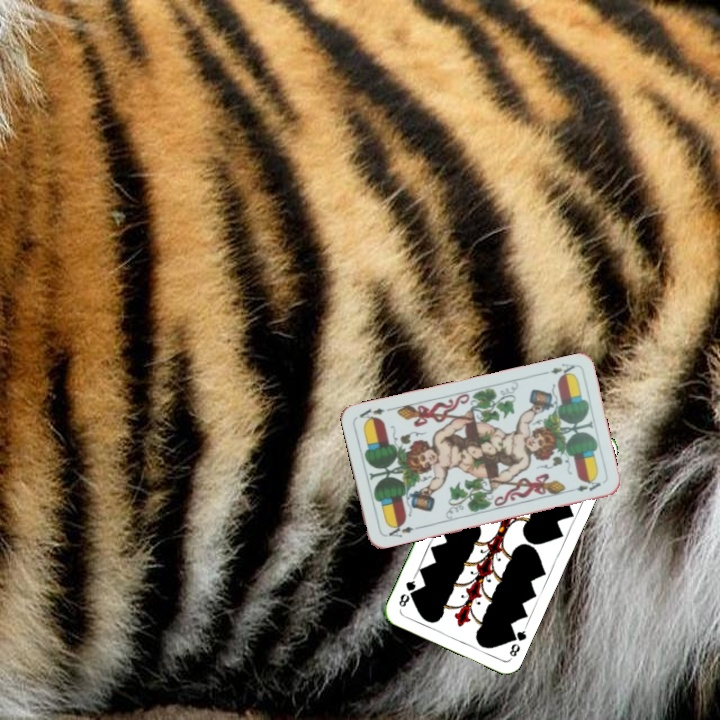EA: (538, 359, 578, 380), (385, 519, 421, 540)
G8: (505, 623, 529, 661)
